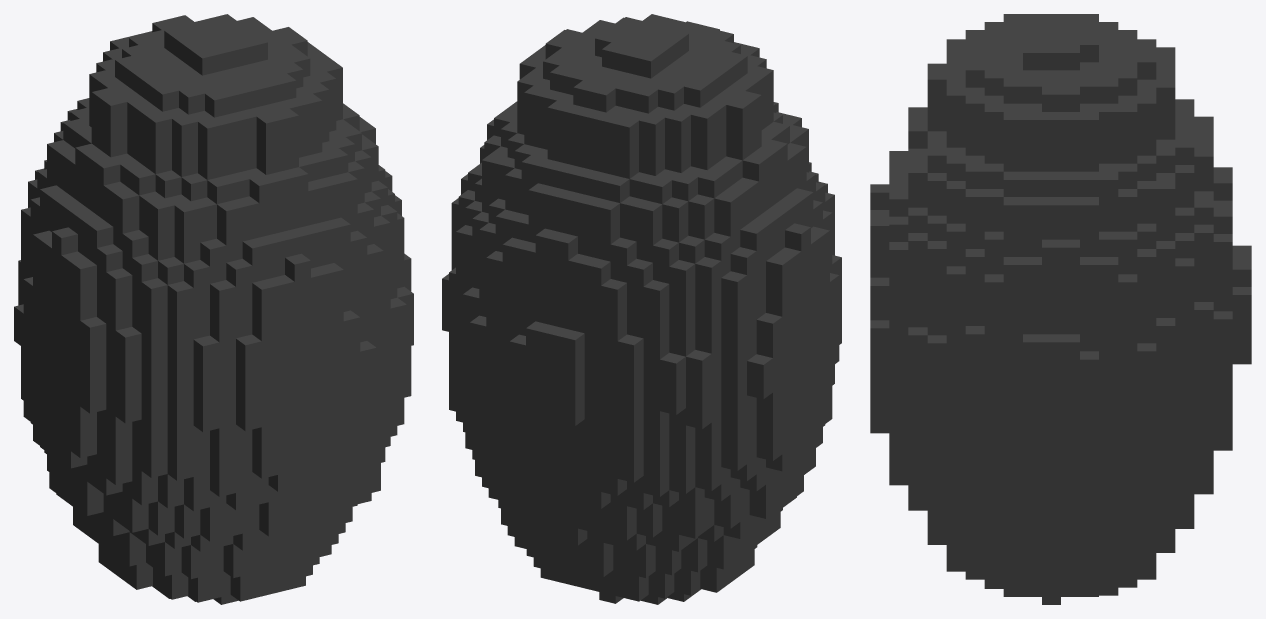
The model's file is EmitterGem.obj.
The picture shows the model from 3 angles, left to right: view 1: azimuth 30°, elevation 25°; view 2: azimuth 150°, elevation 25°; view 3: azimuth 270°, elevation 25°; orthographic projection.
Bounding box in the file's own units: 2 × 3.1 × 2.
Materials: 1 (1 with a texture image).
